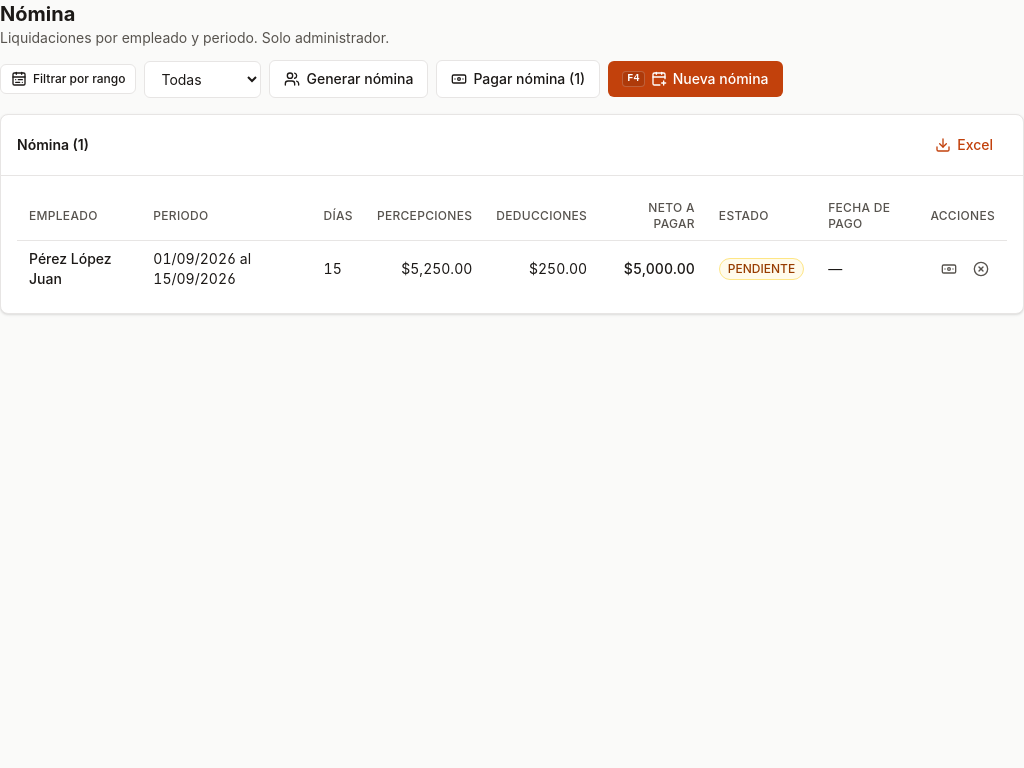
Test: NominaPage (profundización) › valida periodo invertido y campos vacíos
Expected: the text "Pérez López Juan" is shown, top-left (29, 250), bottom-right (112, 287)
Click the button "F4 Nueva nómina" at [695, 79], box top-left (608, 61), bottom-right (782, 97)
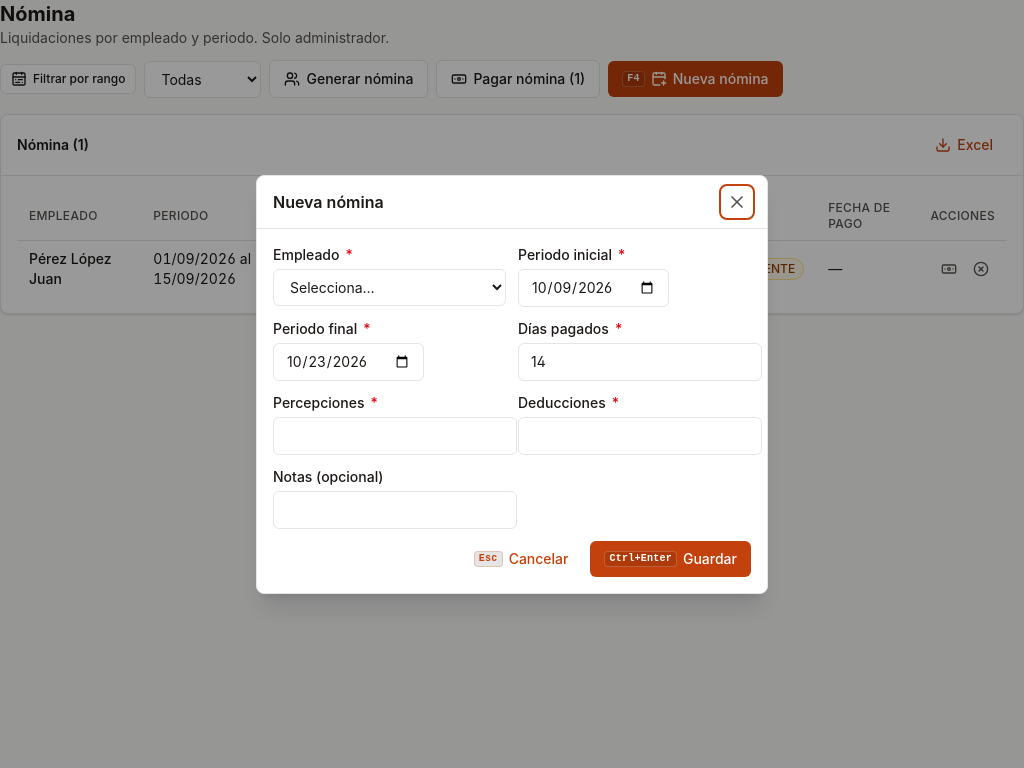
Type "2030-01-10" into the date field labelled "Periodo inicial *" at [594, 288], box top-left (518, 268), bottom-right (669, 306)
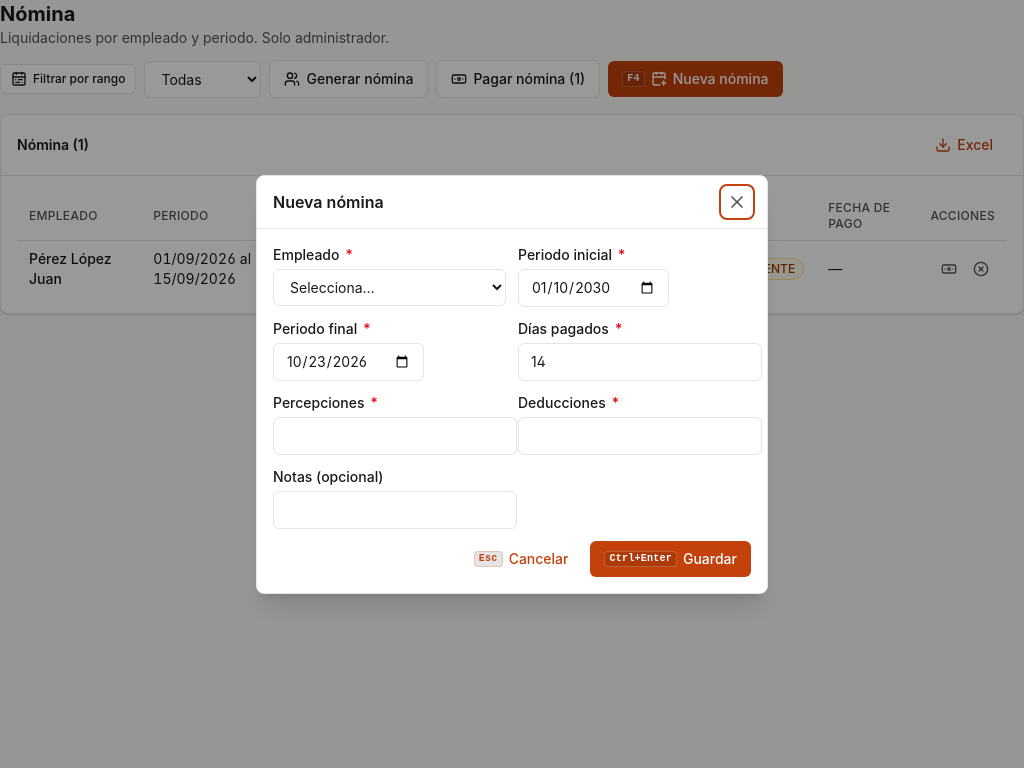
Click the button "Ctrl+Enter Guardar" at [671, 558], box top-left (590, 540), bottom-right (751, 576)
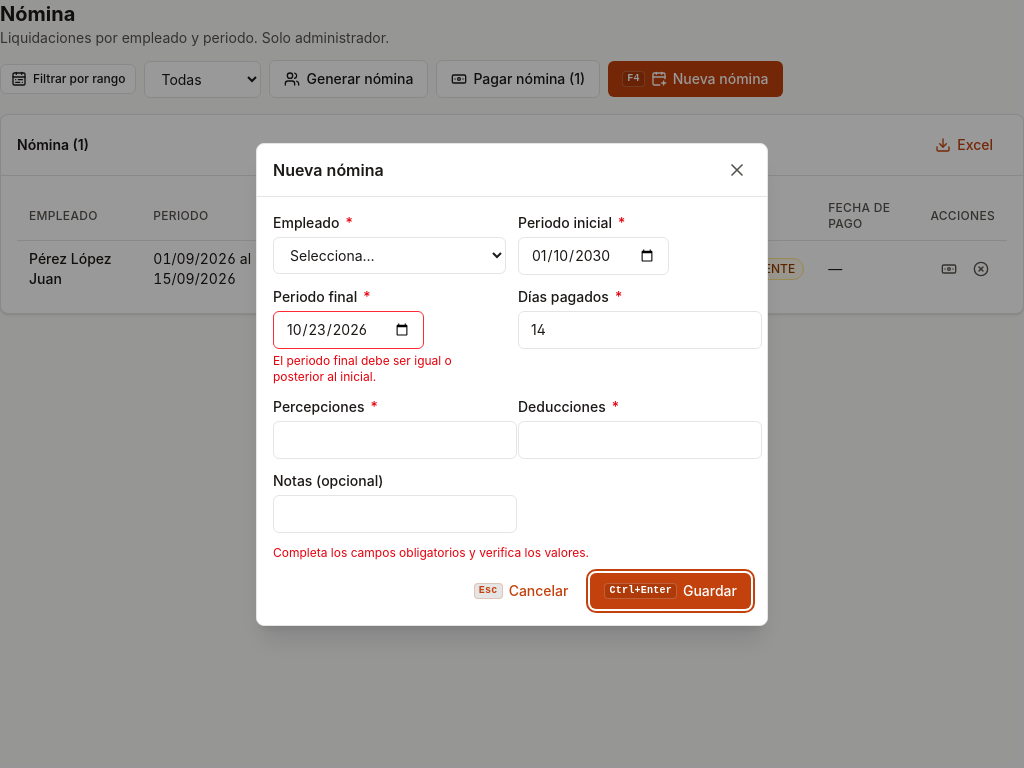
Result: the text "El periodo final debe ser igual o posterior al inicial." is shown at top-left (273, 352), bottom-right (452, 384)
